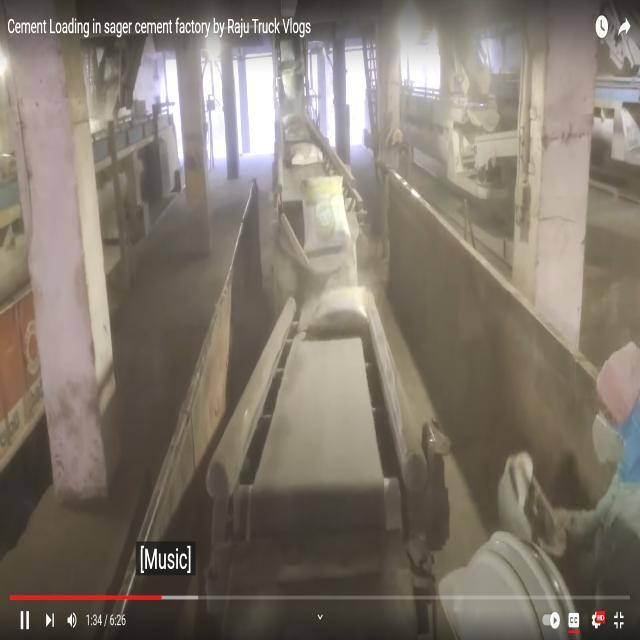gunny_bag: (302, 176, 350, 255), (282, 112, 311, 141), (291, 140, 323, 164)
